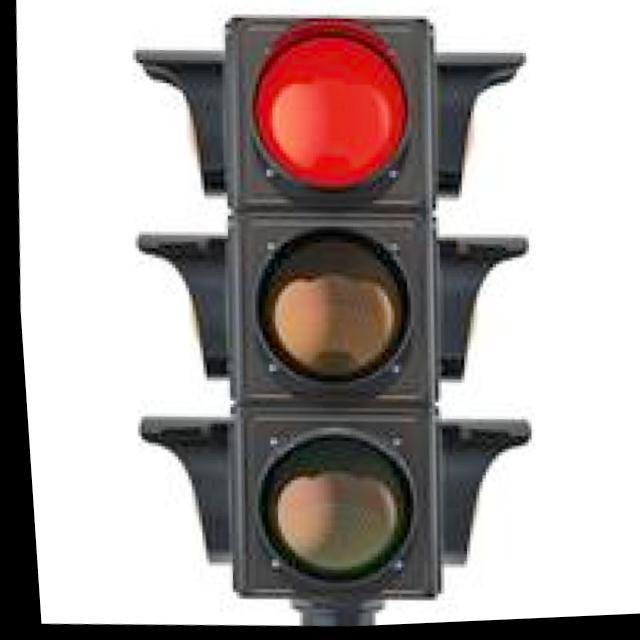red_light: (156, 11, 496, 254)
